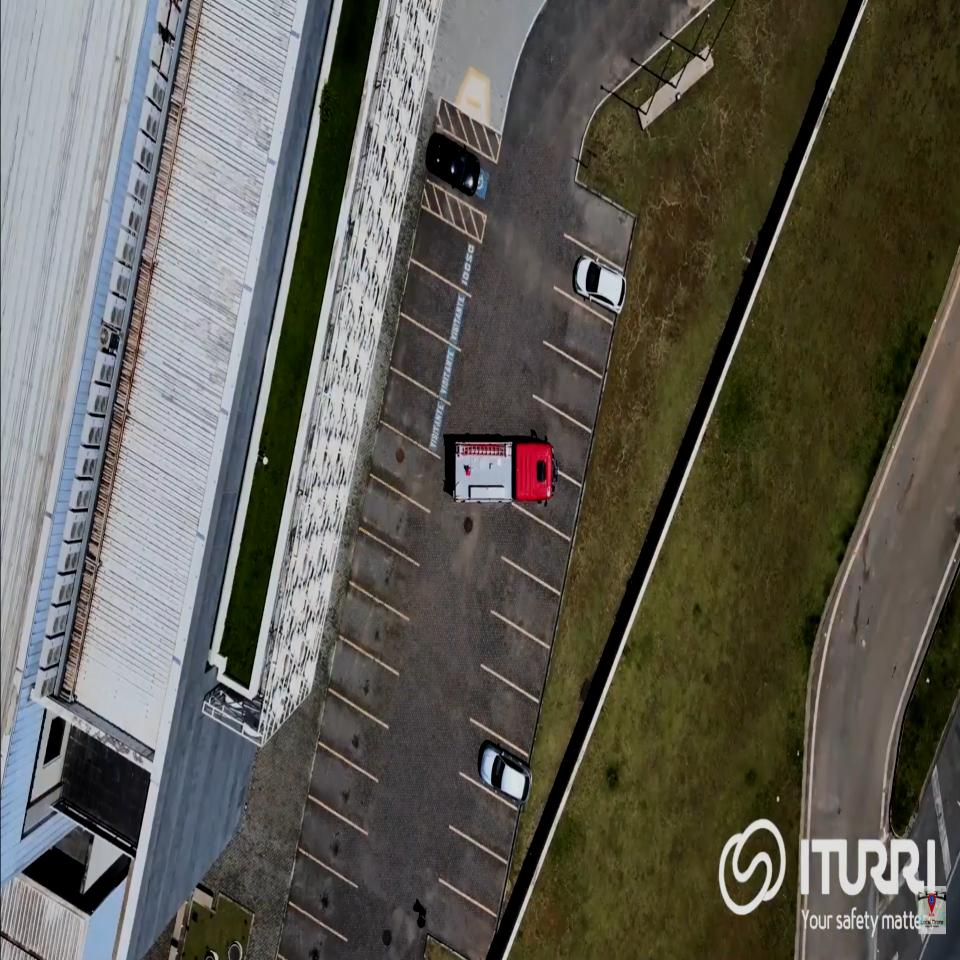bombeiro: (451, 430, 562, 506)
